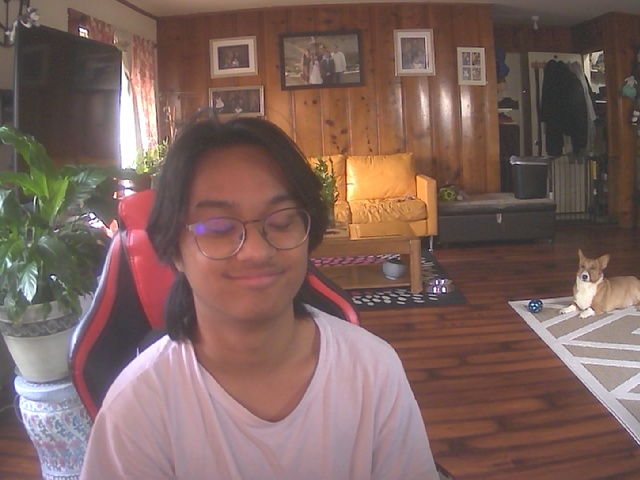happy: (167, 126, 320, 324)
